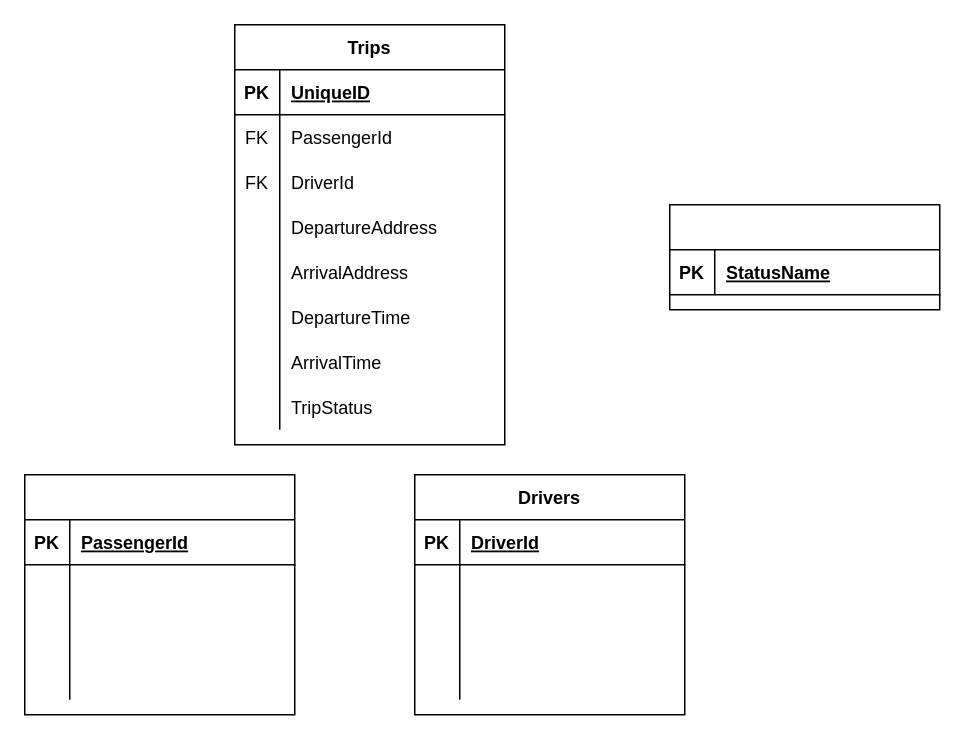
The diagram is 965 pixels wide and 740 high, and some of its shapes have lost their labels. The shapes that lost their labels are listed below. From the top down, each one's box as (x1, y1, x2, y2) in pixels, then its label:
(668, 203, 940, 310): TrpStatus
(23, 473, 295, 715): Passengers
